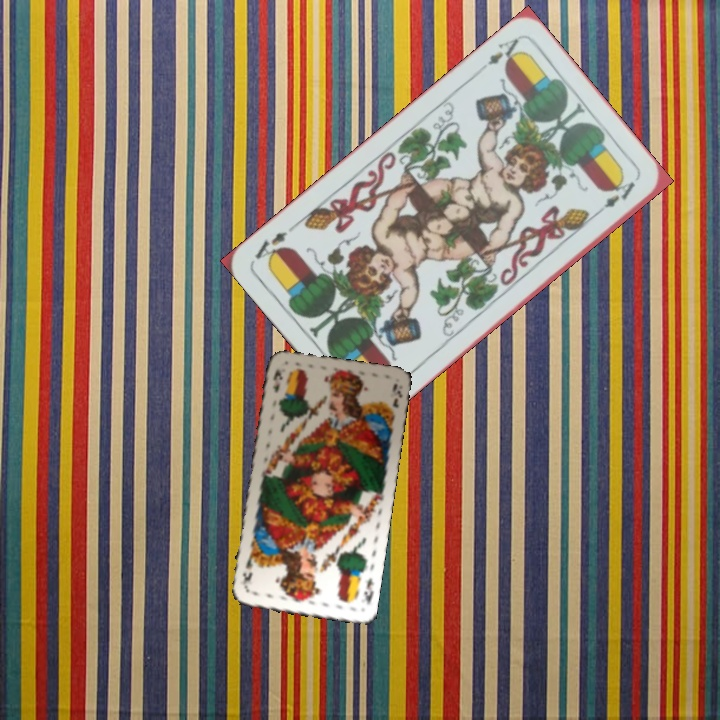EA: (483, 34, 525, 69)
EK: (360, 574, 376, 607), (268, 365, 285, 395)
